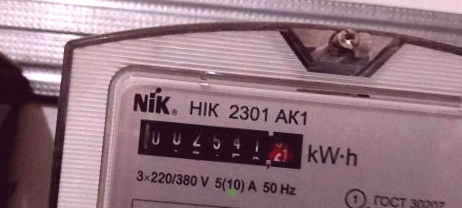0: (148, 124, 163, 146), (169, 124, 183, 146)
1: (250, 130, 263, 154)
2: (189, 125, 205, 149)
4: (230, 128, 243, 150)
5: (209, 127, 224, 151)
6: (271, 149, 283, 162)
screen: (123, 106, 317, 179)
